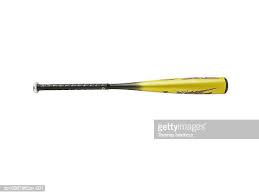bat: (32, 75, 229, 95)
